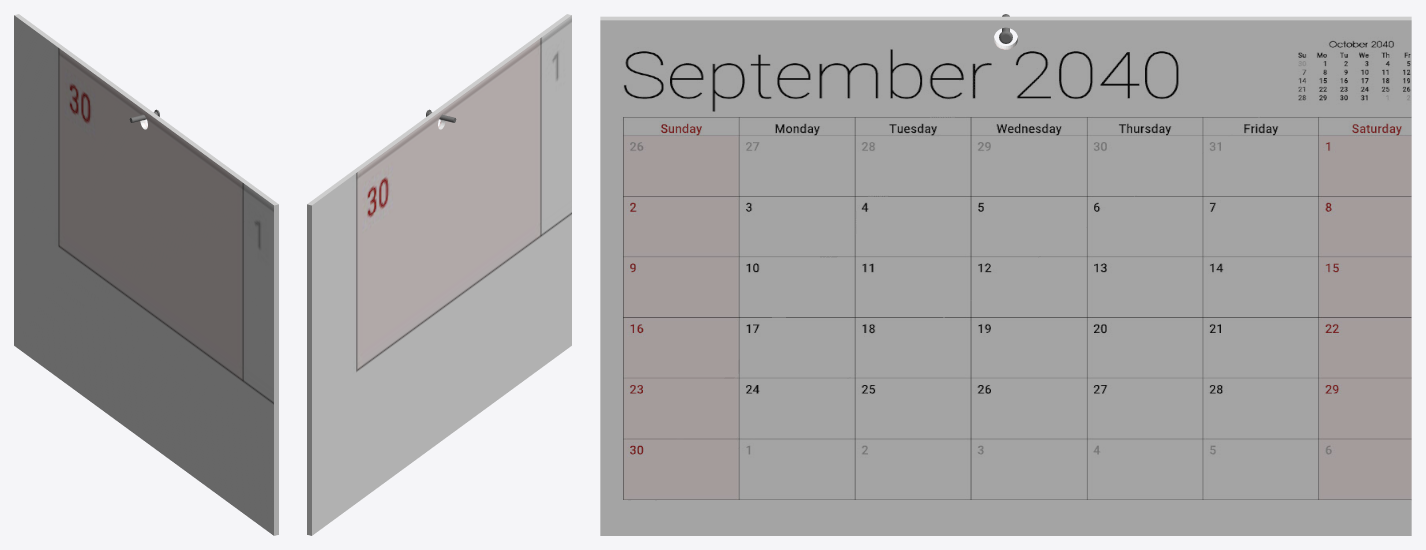
The model's file is kalender.fbx.
3 renders of one model, left to right at view 1: azimuth 30°, elevation 25°; view 2: azimuth 150°, elevation 25°; view 3: azimuth 270°, elevation 25°, orthographic. The views are drawn at different scales.
Parts seen in each view (by area): view 1: Cube; view 2: Cube; view 3: Cube.
Boxes of the visible parts, <box> form: Cube: <box>14,14,278,535</box>; Cube: <box>307,14,571,535</box>; Cube: <box>600,16,1411,535</box>.
Size of the model in its own units: 5.55 by 64.3 by 91.7.
